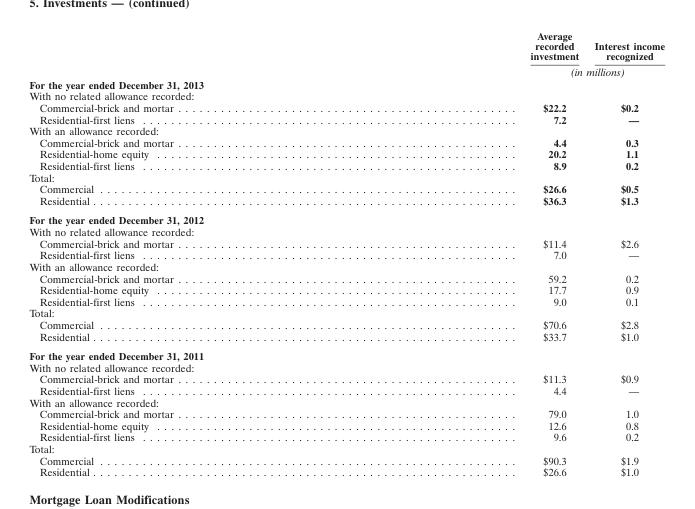table: (28, 28, 664, 477)
table column: (28, 28, 351, 477), (351, 28, 586, 477), (586, 28, 664, 477)
table column header: (28, 28, 664, 77)
table projected row header: (28, 345, 664, 361), (28, 210, 664, 225), (28, 77, 664, 89), (28, 89, 664, 101), (28, 124, 664, 136), (28, 225, 664, 237), (28, 260, 664, 272), (28, 306, 664, 318), (28, 442, 664, 454), (28, 171, 664, 182), (28, 361, 664, 372), (28, 396, 664, 407)
table row: (28, 28, 664, 63), (28, 194, 664, 210), (28, 345, 664, 361), (28, 210, 664, 225), (28, 330, 664, 345), (28, 63, 664, 77), (28, 77, 664, 89), (28, 89, 664, 101), (28, 101, 664, 113), (28, 124, 664, 136), (28, 136, 664, 148), (28, 159, 664, 171), (28, 182, 664, 194), (28, 225, 664, 237), (28, 248, 664, 260), (28, 260, 664, 272), (28, 283, 664, 295), (28, 306, 664, 318), (28, 318, 664, 330), (28, 372, 664, 384), (28, 384, 664, 396), (28, 407, 664, 419), (28, 430, 664, 442), (28, 442, 664, 454), (28, 465, 664, 477), (28, 113, 664, 124), (28, 148, 664, 159), (28, 171, 664, 182), (28, 237, 664, 248), (28, 272, 664, 283), (28, 295, 664, 306), (28, 361, 664, 372), (28, 396, 664, 407), (28, 419, 664, 430), (28, 454, 664, 465)
table spanning cell: (351, 63, 664, 77)
